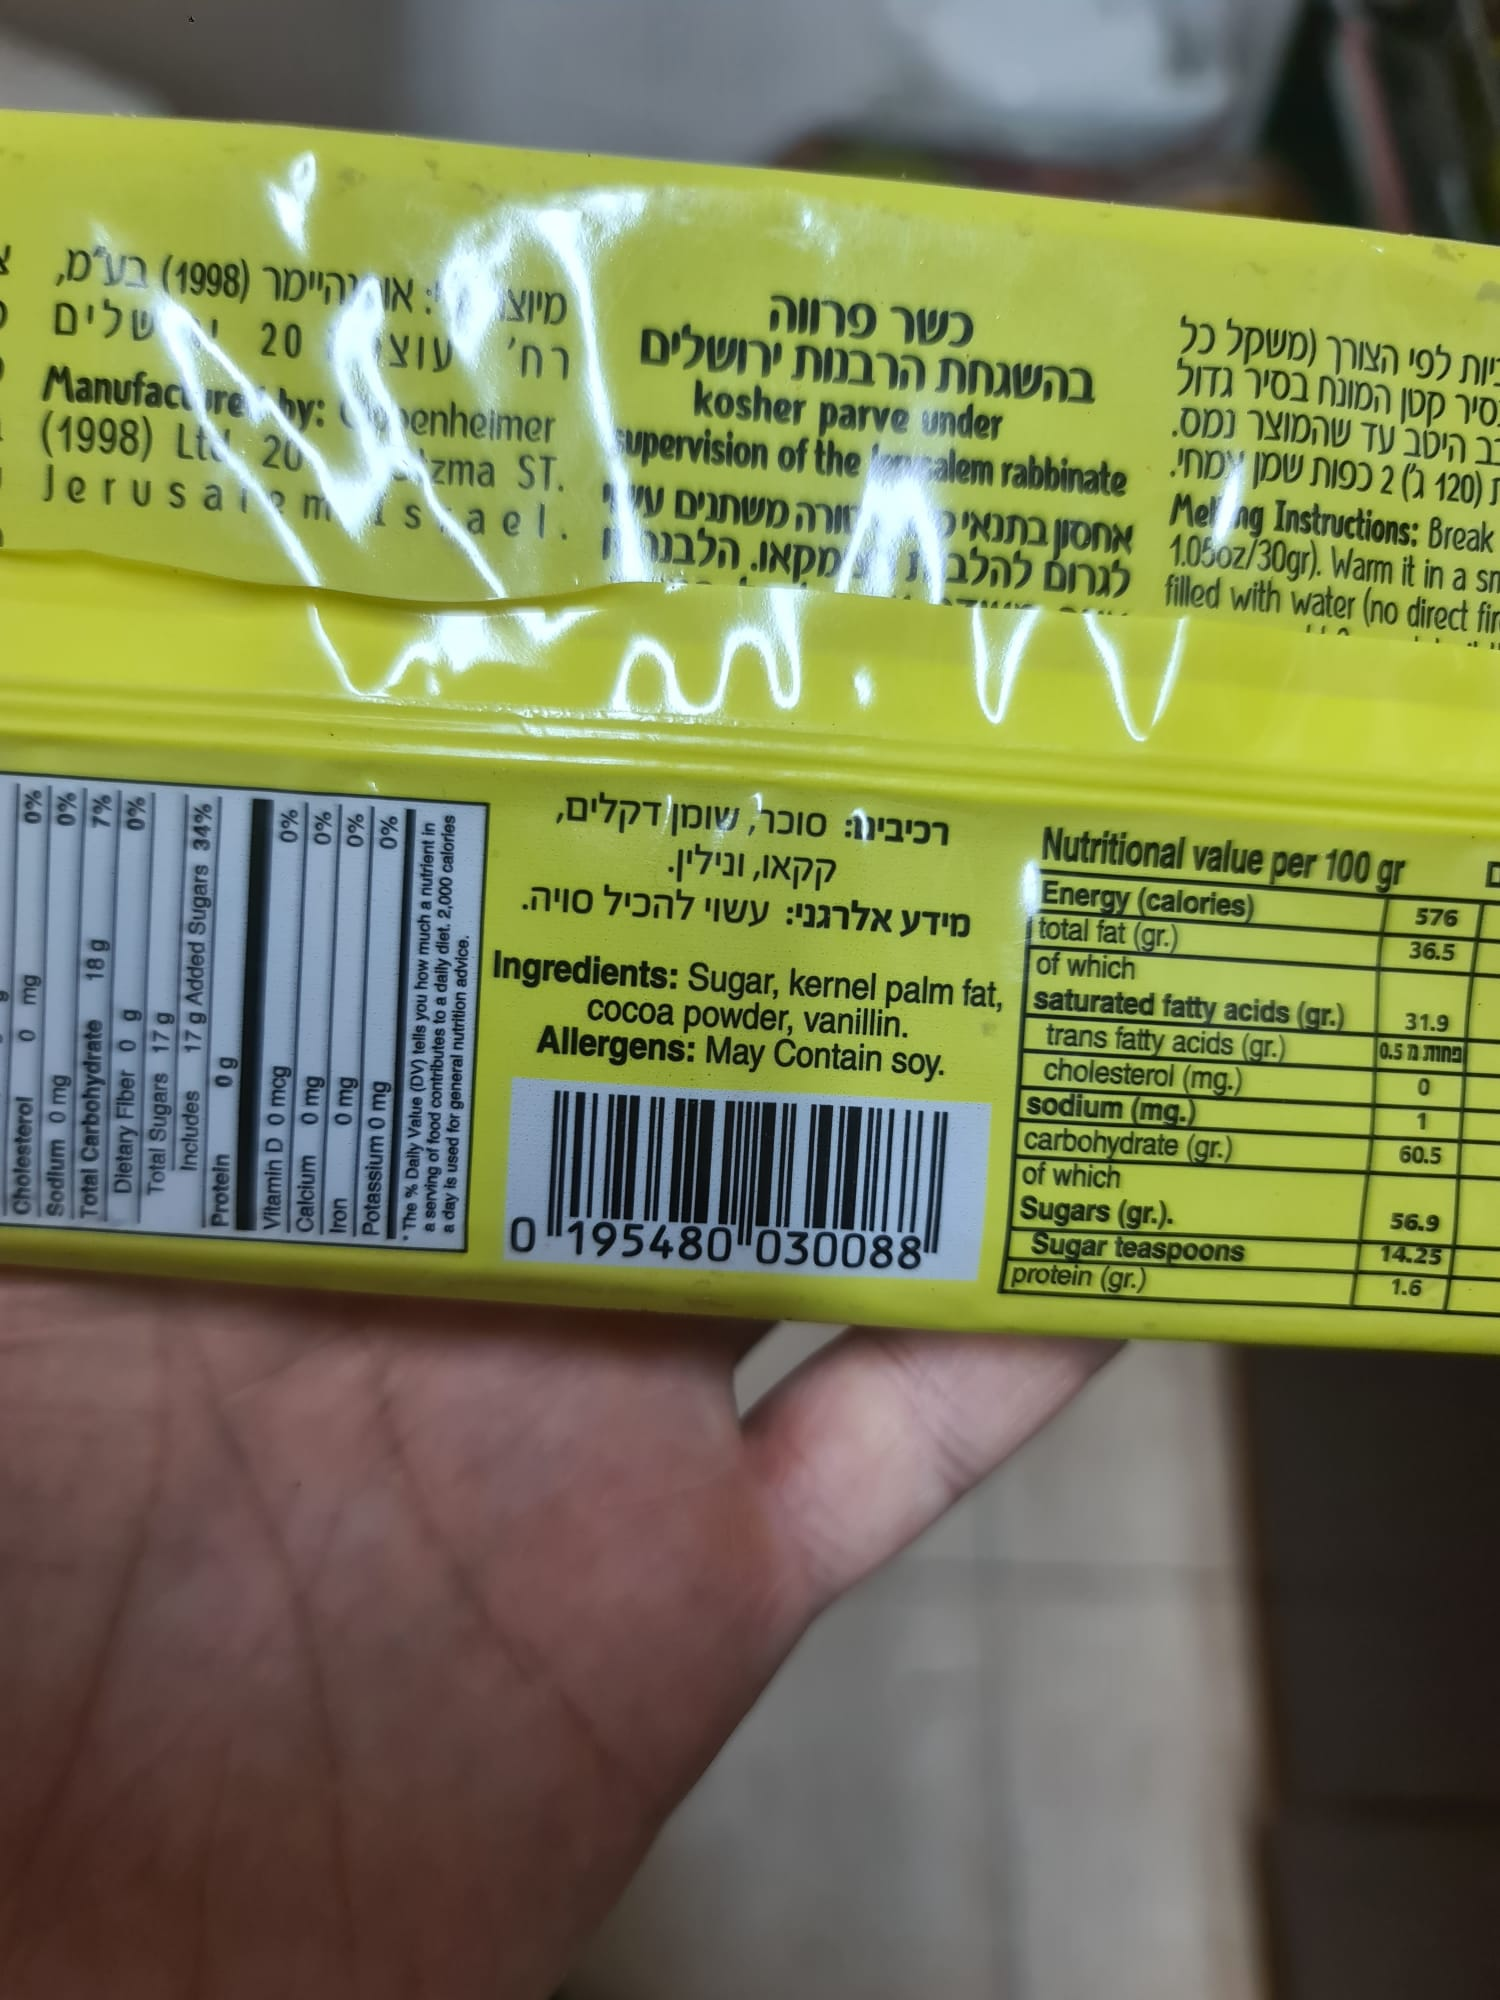l: (451, 932, 1024, 1050)
